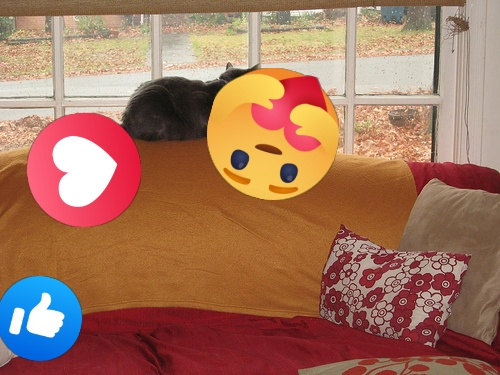care: (207, 68, 339, 200)
like: (0, 276, 82, 361)
love: (27, 113, 141, 227)
